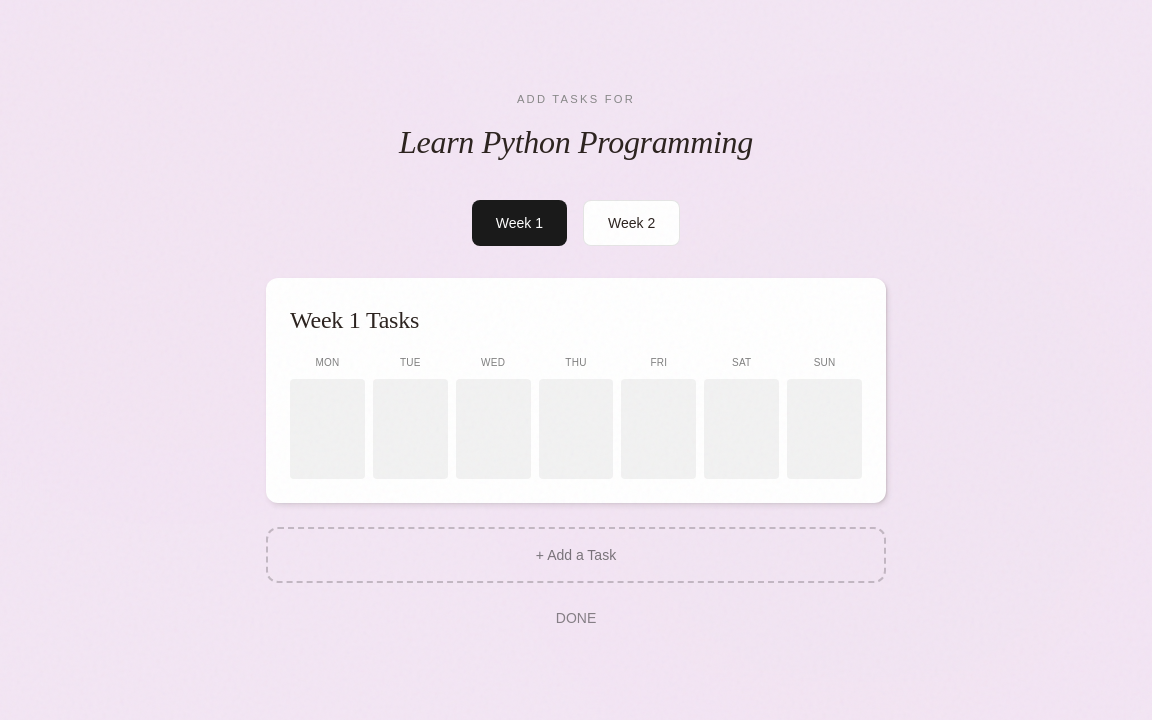
Test: TaskAssigner › Week selection › switches back to Week 1 when clicked
# First switch to Week 2
Click the button "Week 2" at (632, 223), box [583, 200, 680, 246]
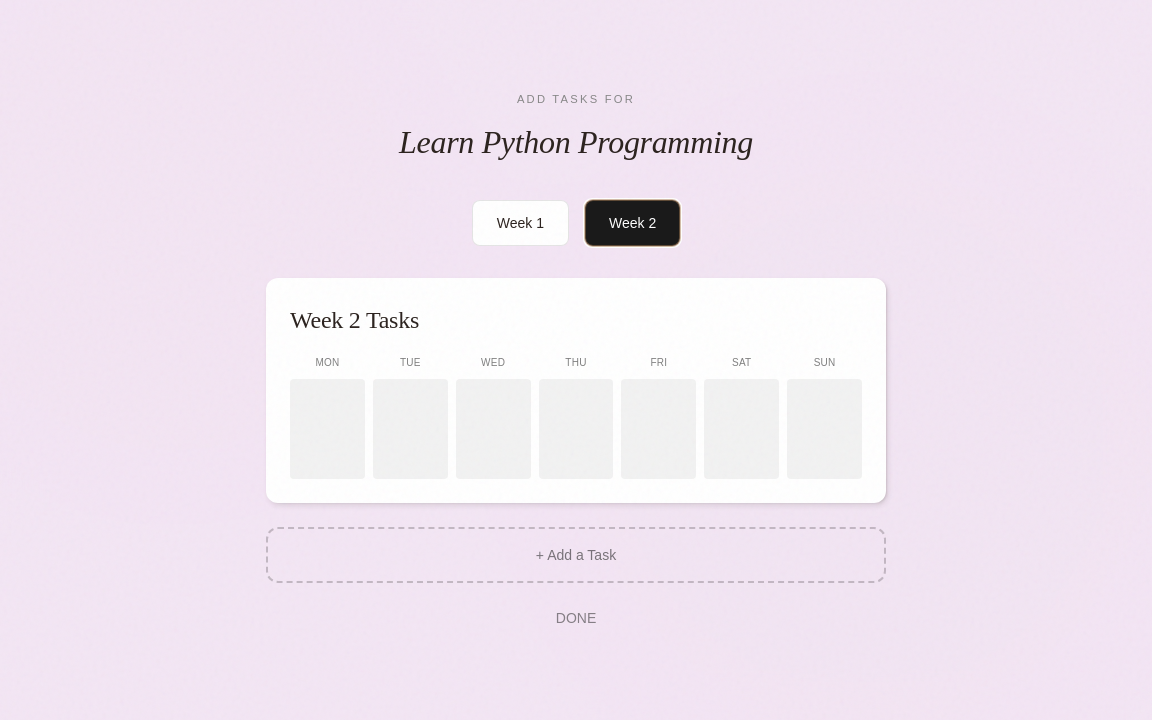
Check: the heading "Week 2 Tasks" is shown, box [290, 307, 419, 333]
# Then switch back to Week 1
Click the button "Week 1" at (520, 223), box [472, 200, 569, 246]
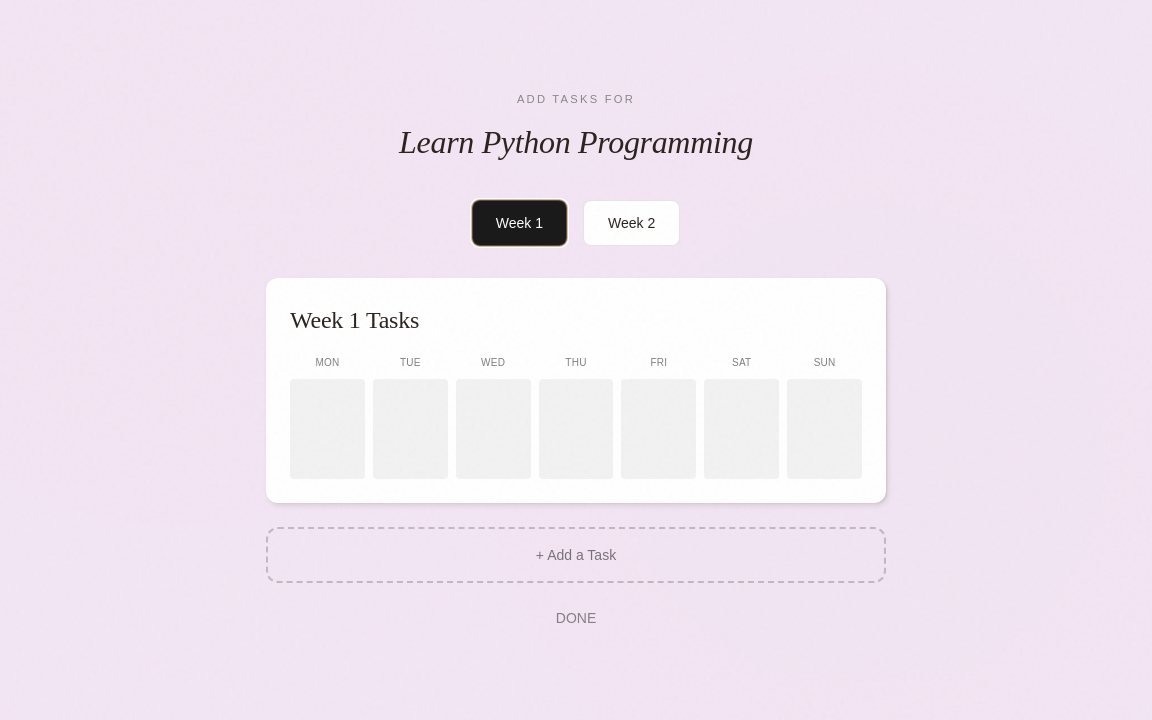
Check: the heading "Week 1 Tasks" is shown, box [290, 307, 419, 333]
